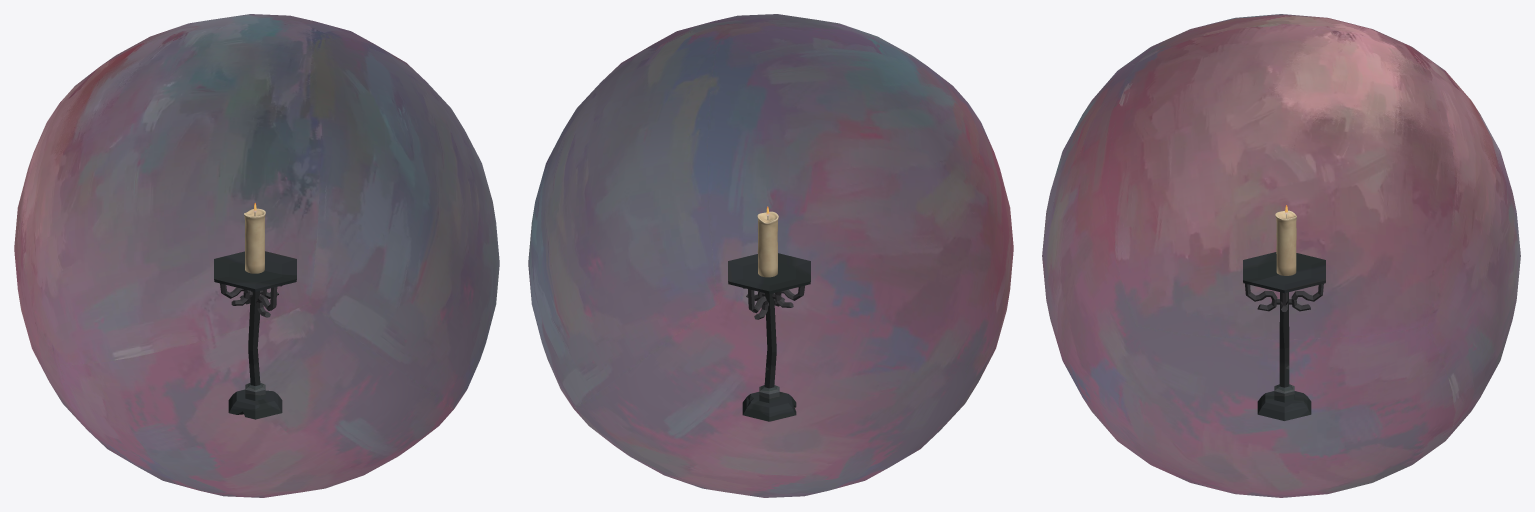
File: ZMedCandleAnimatedFlame2.glb
3 renders of one model, left to right at view 1: azimuth 30°, elevation 25°; view 2: azimuth 150°, elevation 25°; view 3: azimuth 270°, elevation 25°, orthographic.
Visible parts, largest first — view 1: Room, Candle_Stand, Candle2; view 2: Room, Candle_Stand, Candle2; view 3: Room, Candle_Stand, Candle2.
Boxes of the visible parts, x1,y1,x2,y2 form: Room: (14, 14, 499, 497); Candle_Stand: (214, 251, 296, 419); Candle2: (244, 208, 265, 273); Room: (528, 14, 1013, 497); Candle_Stand: (728, 253, 810, 421); Candle2: (757, 211, 778, 277); Room: (1042, 14, 1520, 497); Candle_Stand: (1243, 252, 1325, 420); Candle2: (1275, 210, 1296, 275).
Bounding box in the file's own units: 24.44 × 24.44 × 24.44.
5 materials, 4 textured.
